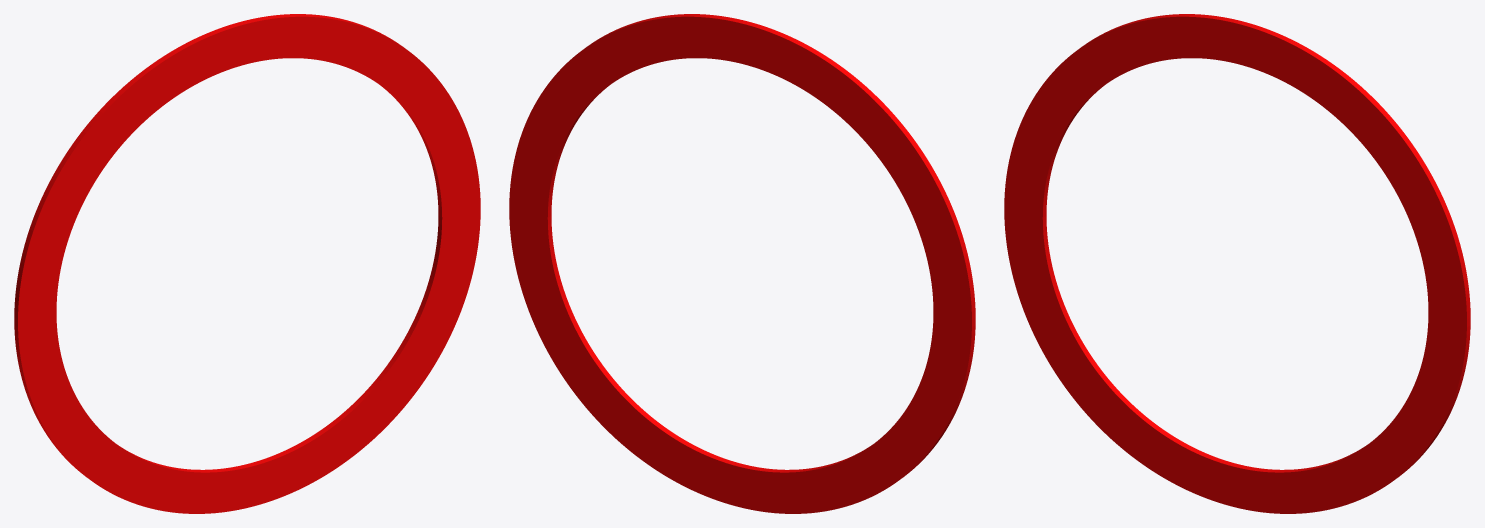
File: gate_round_big_red.dae
3 renders of one model, left to right at view 1: azimuth 30°, elevation 25°; view 2: azimuth 150°, elevation 25°; view 3: azimuth 330°, elevation 25°, orthographic.
Parts seen in each view (by area): view 1: gates_round_big; view 2: gates_round_big; view 3: gates_round_big.
Boxes of the visible parts, x1=… form: gates_round_big: x1=14, y1=14, x2=480, y2=513; gates_round_big: x1=509, y1=14, x2=975, y2=513; gates_round_big: x1=1004, y1=14, x2=1470, y2=513.
Size of the model in its own units: 1.8 by 0.025 by 1.8.
